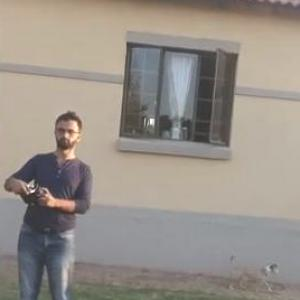follow: (0, 102, 100, 299)
null: (225, 240, 280, 296)
